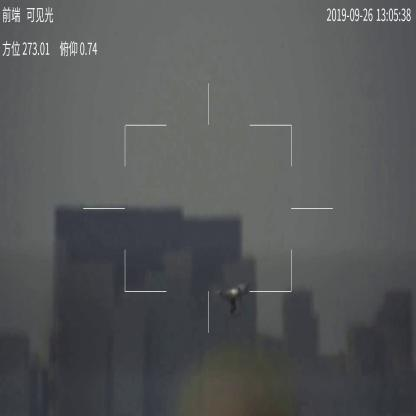uav: (213, 282, 250, 314)
